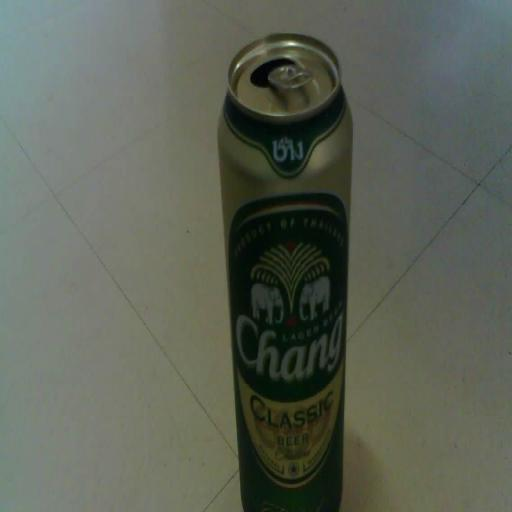canned: (207, 16, 360, 512)
